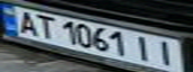0: (72, 21, 93, 50)
1: (106, 28, 130, 56), (54, 18, 78, 44)
6: (90, 25, 109, 53)
A: (12, 8, 42, 36)
I: (151, 37, 181, 67), (130, 34, 157, 62)
T: (33, 12, 60, 39)
